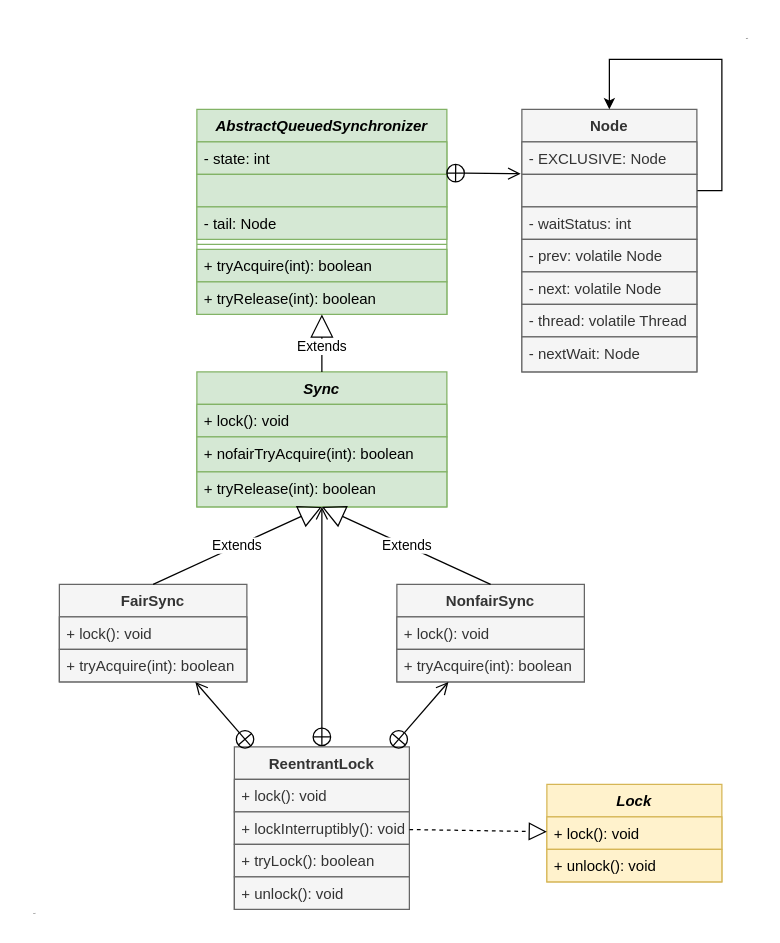
The diagram is 780 pixels wide and 943 high, and some of its shapes have lost their labels. The centre of each missing label's shape, as x and y in pixels:
"- head: Node" belongs at point (321, 190).
"- SHARED: Node" belongs at point (609, 190).
